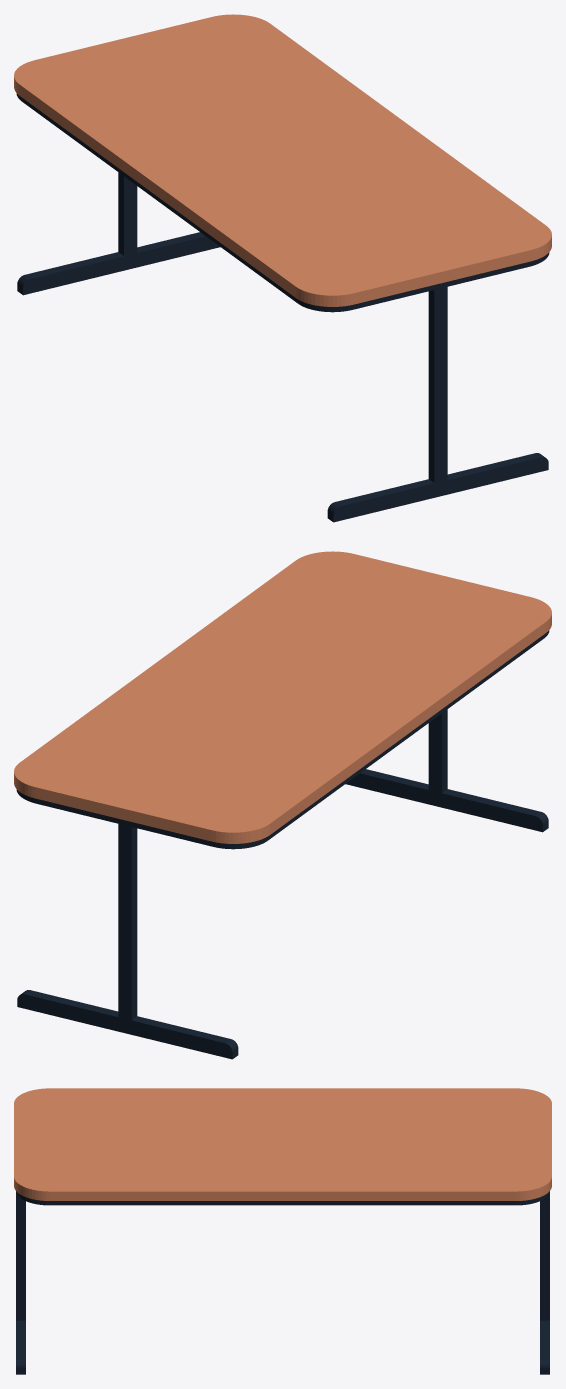
File: Desk.fbx
3 renders of one model, top to bottom at view 1: azimuth 30°, elevation 25°; view 2: azimuth 150°, elevation 25°; view 3: azimuth 270°, elevation 25°, orthographic. The views are drawn at different scales.
Visible parts, largest first — view 1: Desk; view 2: Desk; view 3: Desk.
Part boxes in pixels (x1,y1,x2,y2): Desk: [14, 14, 551, 522]; Desk: [14, 551, 551, 1059]; Desk: [14, 1088, 551, 1374].
Size of the model in its own units: 2726 by 2345 by 6009.
